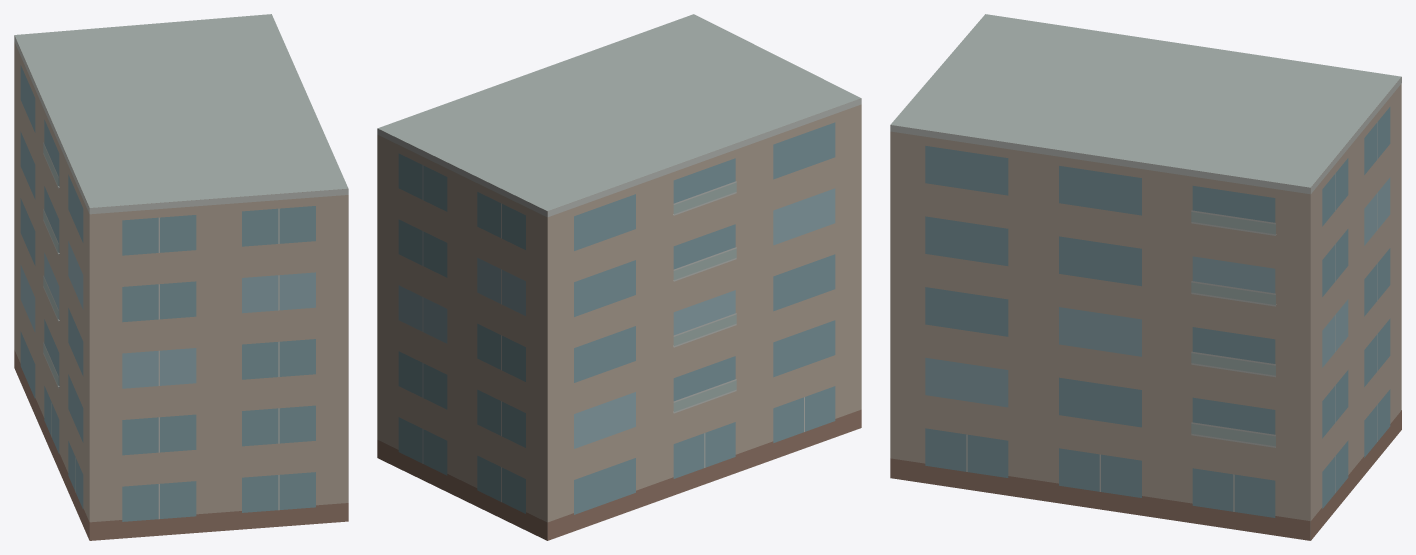
The model's file is survey-upis-32888449.glb.
3 renders of one model, left to right at view 1: azimuth 30°, elevation 25°; view 2: azimuth 150°, elevation 25°; view 3: azimuth 270°, elevation 25°, orthographic. The views are drawn at different scales.
Parts seen in each view (by area): view 1: survey-upis-32888449.tmp; view 2: survey-upis-32888449.tmp; view 3: survey-upis-32888449.tmp.
Boxes of the visible parts, x1,y1,x2,y2 form: survey-upis-32888449.tmp: (14, 14, 348, 540); survey-upis-32888449.tmp: (377, 14, 861, 540); survey-upis-32888449.tmp: (890, 14, 1401, 540).
Size of the model in its own units: 13.72 by 13 by 17.07.
